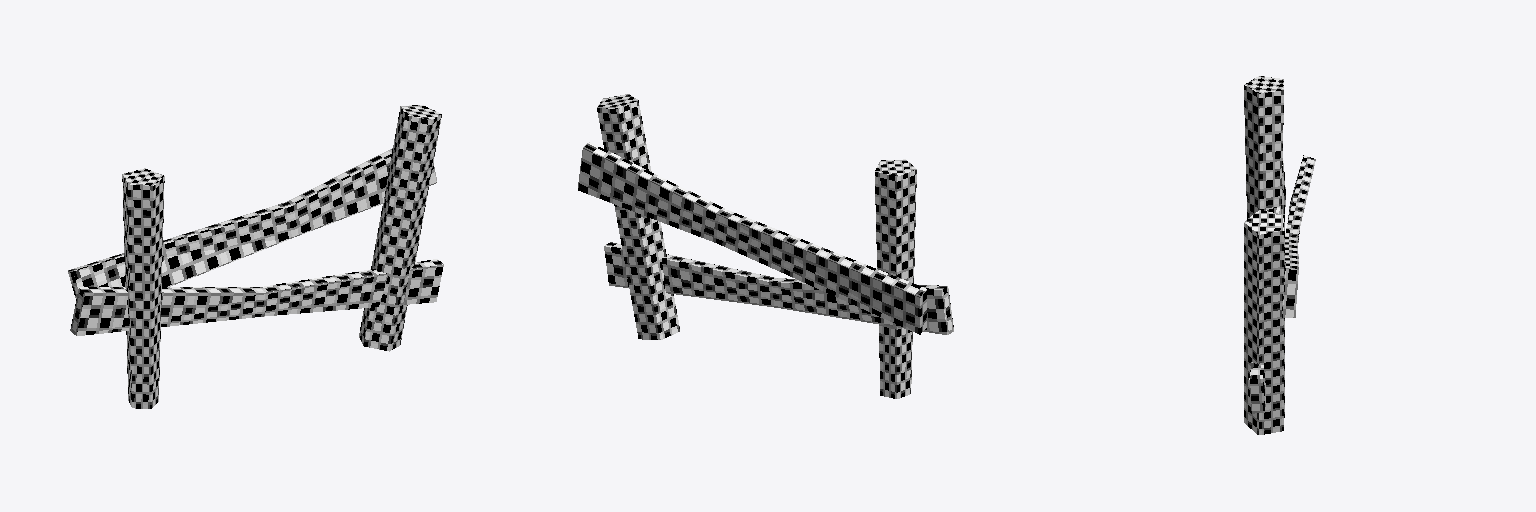
3 renders of one model, left to right at view 1: azimuth 30°, elevation 25°; view 2: azimuth 150°, elevation 25°; view 3: azimuth 270°, elevation 25°, orthographic.
Parts seen in each view (by area): view 1: Cerca_02; view 2: Cerca_02; view 3: Cerca_02.
Boxes of the visible parts, x1,y1,x2,y2 form: Cerca_02: [68, 105, 443, 408]; Cerca_02: [578, 94, 953, 398]; Cerca_02: [1244, 76, 1315, 434].
Bounding box in the file's own units: 36.83 × 22 × 6.32.
Materials: 1 (1 with a texture image).